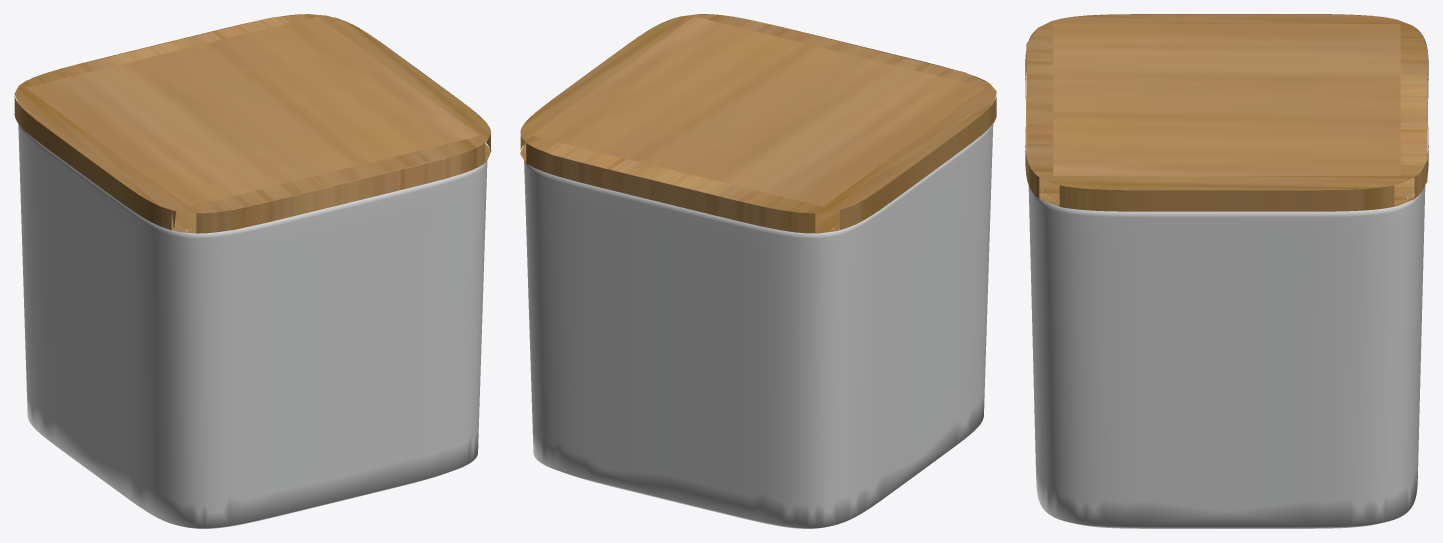
The picture shows the model from 3 angles, left to right: view 1: azimuth 30°, elevation 25°; view 2: azimuth 150°, elevation 25°; view 3: azimuth 270°, elevation 25°; orthographic projection. The views are drawn at different scales.
Visible parts, largest first — view 1: body, lid; view 2: body, lid; view 3: body, lid.
Part boxes in pixels (x1=…): body: x1=18, y1=124, x2=487, y2=528; lid: x1=14, y1=14, x2=491, y2=233; body: x1=524, y1=124, x2=993, y2=528; lid: x1=520, y1=14, x2=996, y2=233; body: x1=1028, y1=186, x2=1425, y2=528; lid: x1=1025, y1=14, x2=1428, y2=211.
Size of the model in its own units: 0.1583 by 0.1469 by 0.1533.
Materials: 2 (1 with a texture image).
